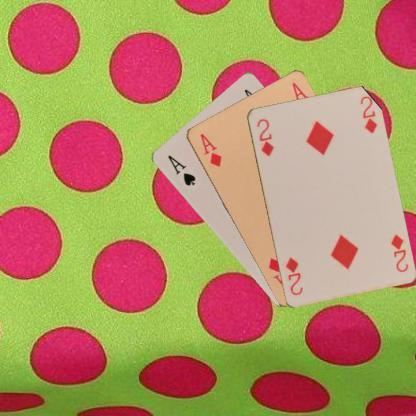2d: (254, 116, 276, 158), (388, 231, 410, 273)
Ad: (197, 130, 223, 168)
As: (164, 152, 197, 187)
